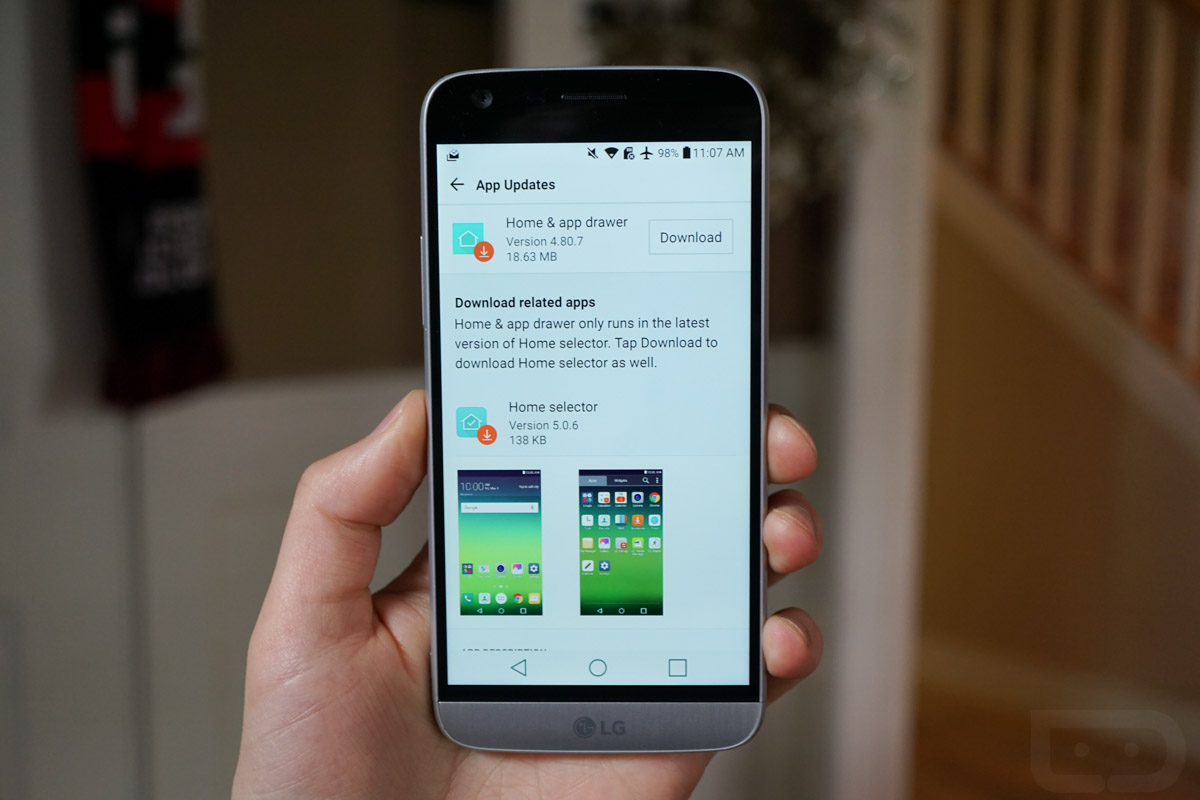smartphone: (420, 66, 769, 753)
